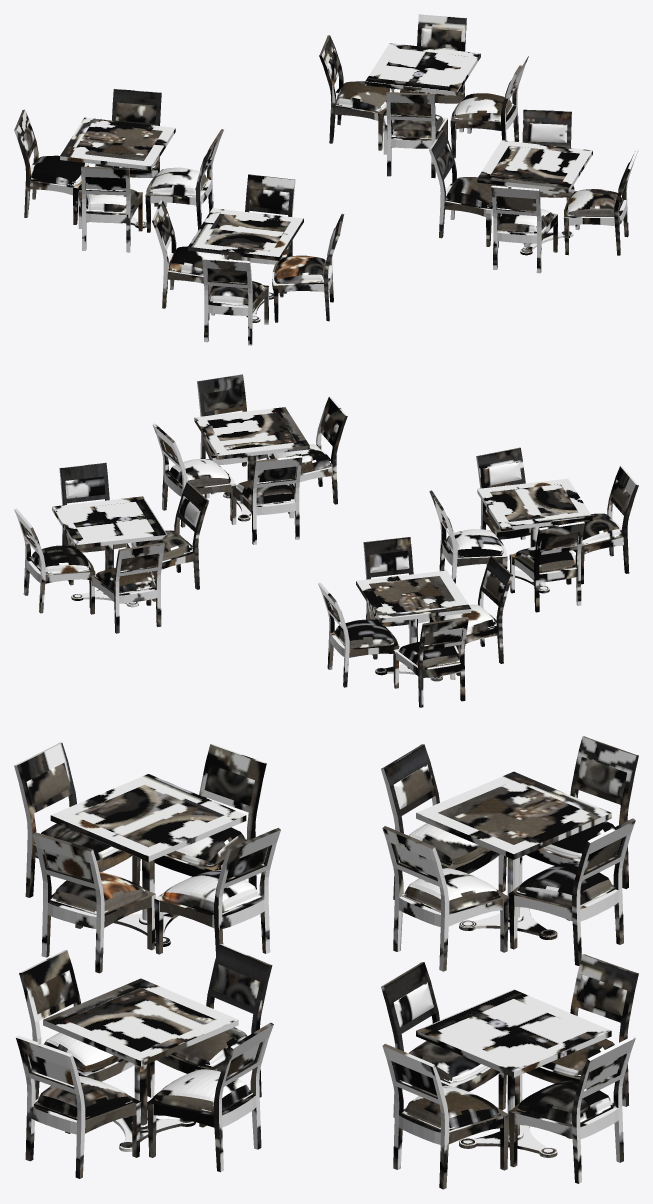
Rendered from hotelhamilton_4.obj.
3 renders of one model, top to bottom at view 1: azimuth 30°, elevation 25°; view 2: azimuth 150°, elevation 25°; view 3: azimuth 270°, elevation 25°, orthographic. The views are drawn at different scales.
Bounding box in the file's own units: 5.09 × 0.9291 × 4.06.
